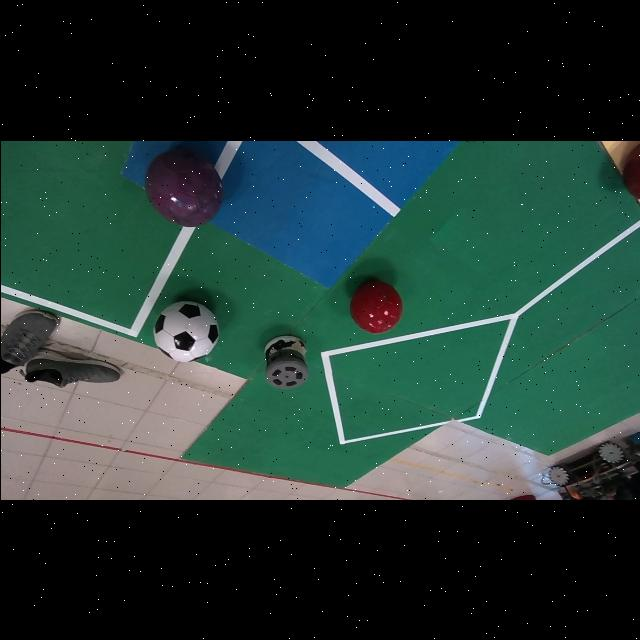P: (144, 148, 222, 226)
R: (348, 280, 401, 333)
